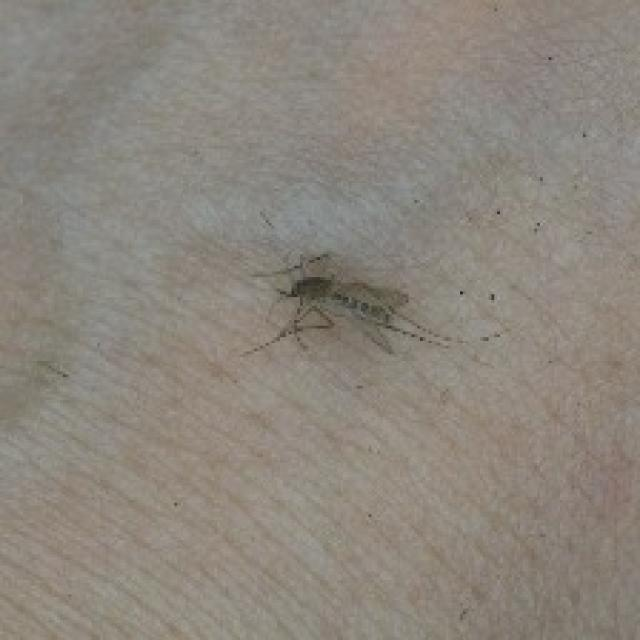culex: (237, 248, 486, 363)
